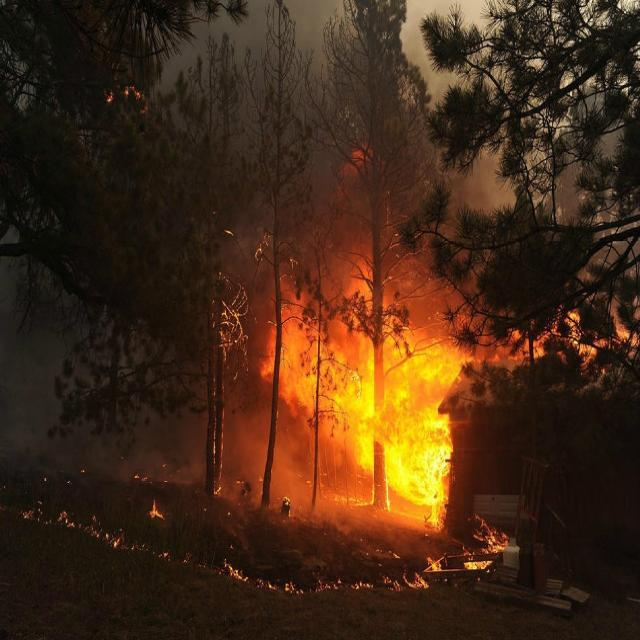Fire: (265, 253, 640, 532), (20, 502, 122, 551), (464, 510, 509, 572), (382, 554, 442, 592), (103, 81, 149, 115), (222, 556, 250, 584), (314, 578, 342, 594), (283, 580, 305, 596), (256, 576, 277, 592), (149, 500, 164, 521), (350, 580, 374, 590)
Smoke: (1, 1, 640, 535)
